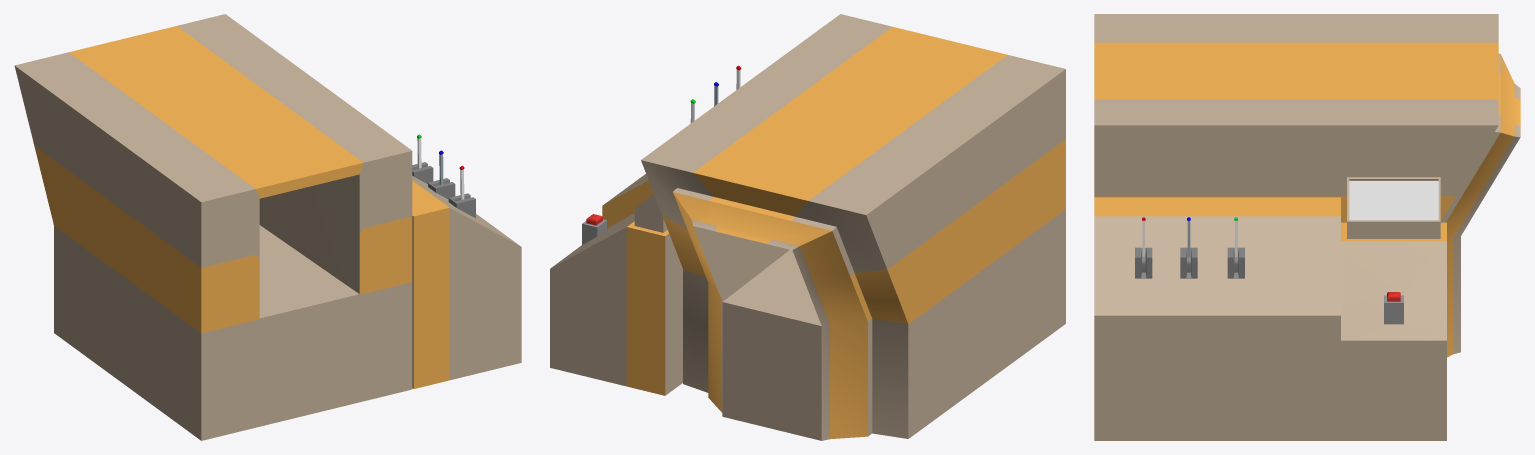
The model's file is kollu_makine.fbx.
The picture shows the model from 3 angles, left to right: view 1: azimuth 30°, elevation 25°; view 2: azimuth 150°, elevation 25°; view 3: azimuth 270°, elevation 25°; orthographic projection. The views are drawn at different scales.
Parts seen in each view (by area): view 1: Cube.020; view 2: Cube.020; view 3: Cube.020.
Part boxes in pixels (left/top/right/bottom): Cube.020: left=14, top=14, right=521, bottom=440; Cube.020: left=550, top=14, right=1065, bottom=440; Cube.020: left=1094, top=14, right=1520, bottom=440.
Size of the model in its own units: 107 by 76.3 by 114.
